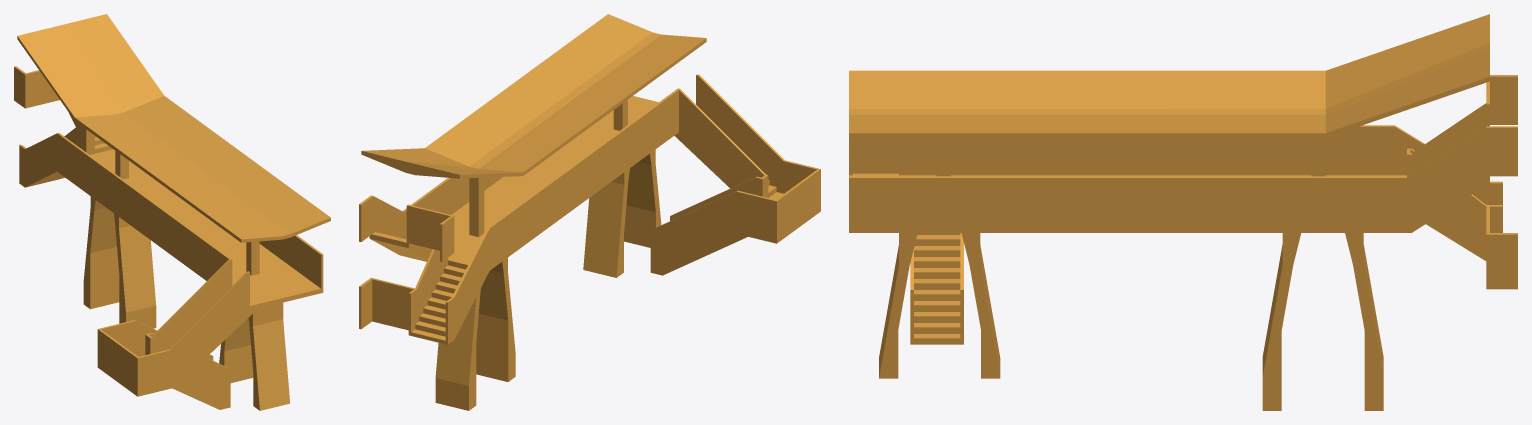
Rendered from trainstation-oberpass-start.glb.
The picture shows the model from 3 angles, left to right: view 1: azimuth 30°, elevation 25°; view 2: azimuth 150°, elevation 25°; view 3: azimuth 270°, elevation 25°; orthographic projection. The views are drawn at different scales.
Parts seen in each view (by area): view 1: trainstation-oberpass-start; view 2: trainstation-oberpass-start; view 3: trainstation-oberpass-start.
Part boxes in pixels (x1=…): trainstation-oberpass-start: x1=14, y1=14, x2=330, y2=410; trainstation-oberpass-start: x1=359, y1=14, x2=820, y2=410; trainstation-oberpass-start: x1=849, y1=14, x2=1517, y2=410.
Bounding box in the file's own units: 8.95 × 11 × 18.75.
